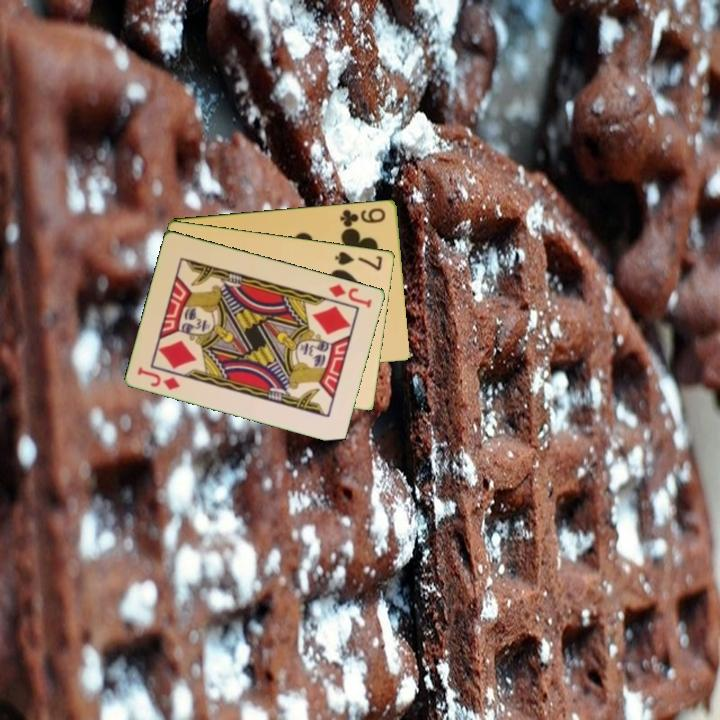7s: (332, 248, 385, 273)
9c: (337, 204, 388, 229)
Jd: (325, 280, 375, 310), (134, 363, 184, 393)
